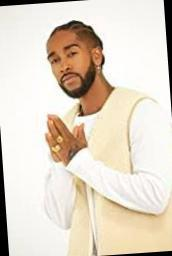Sober: (45, 30, 93, 91)
